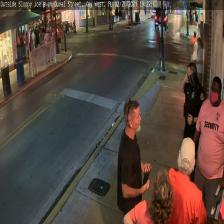person: (192, 76, 224, 221), (116, 97, 149, 224), (166, 138, 206, 224), (180, 62, 204, 180), (123, 170, 173, 224)
